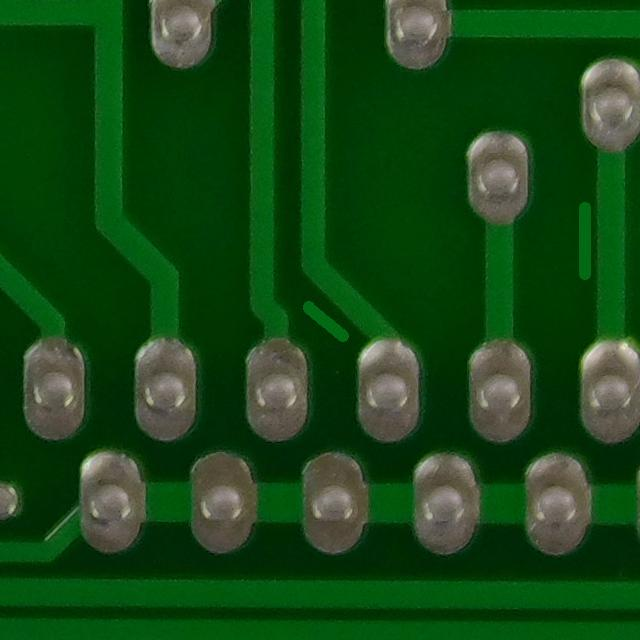spurious_copper: (278, 284, 362, 356)
